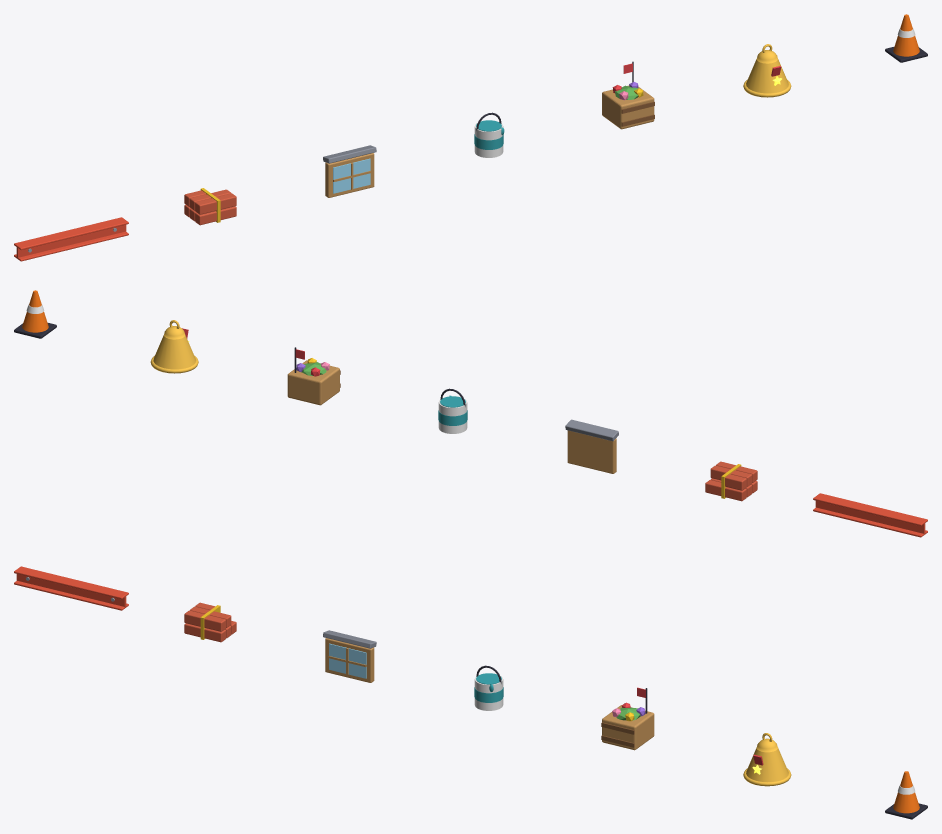
File: pieces.b26dc0a1.glb
3 views of the same model, one above another, from view 1: azimuth 30°, elevation 25°; view 2: azimuth 150°, elevation 25°; view 3: azimuth 330°, elevation 25° (orthographic).
Parts seen in each view (by area): view 1: Piece_beam__T_beam, Piece_bell__T_gold, Piece_brick__T_brick, Piece_decor__T_wood, Piece_panel__T_wood, Piece_panel__T_glass, Piece_cone__T_orange, Piece_paint__T_teal, Piece_paint__T_white; view 2: Piece_beam__T_beam, Piece_panel__T_wood, Piece_bell__T_gold, Piece_decor__T_wood, Piece_brick__T_brick, Piece_panel__T_roofgray, Piece_cone__T_orange, Piece_paint__T_teal, Piece_paint__T_white; view 3: Piece_beam__T_beam, Piece_bell__T_gold, Piece_brick__T_brick, Piece_decor__T_wood, Piece_panel__T_wood, Piece_panel__T_glass, Piece_cone__T_orange, Piece_paint__T_teal, Piece_paint__T_white.
Boxes of the visible parts, <box> form: Piece_beam__T_beam: <box>14,217,128,261</box>; Piece_bell__T_gold: <box>743,44,791,97</box>; Piece_brick__T_brick: <box>184,189,236,225</box>; Piece_decor__T_wood: <box>602,85,654,129</box>; Piece_panel__T_wood: <box>325,153,374,197</box>; Piece_panel__T_glass: <box>333,158,370,193</box>; Piece_cone__T_orange: <box>893,14,919,56</box>; Piece_paint__T_teal: <box>474,120,504,149</box>; Piece_paint__T_white: <box>474,120,503,157</box>; Piece_beam__T_beam: <box>813,493,927,537</box>; Piece_panel__T_wood: <box>567,430,616,473</box>; Piece_bell__T_gold: <box>150,320,198,373</box>; Piece_decor__T_wood: <box>287,360,339,405</box>; Piece_brick__T_brick: <box>705,461,757,501</box>; Piece_panel__T_roofgray: <box>565,419,618,441</box>; Piece_cone__T_orange: <box>22,290,48,332</box>; Piece_paint__T_teal: <box>438,395,467,425</box>; Piece_paint__T_white: <box>438,396,467,433</box>; Piece_beam__T_beam: <box>14,566,128,610</box>; Piece_bell__T_gold: <box>743,733,791,786</box>; Piece_brick__T_brick: <box>184,602,236,642</box>; Piece_decor__T_wood: <box>602,705,654,750</box>; Piece_panel__T_wood: <box>325,638,374,682</box>; Piece_panel__T_glass: <box>329,643,366,678</box>; Piece_cone__T_orange: <box>893,771,919,813</box>; Piece_paint__T_teal: <box>474,673,503,702</box>; Piece_paint__T_white: <box>474,673,503,710</box>.
Size of the model in its own units: 11.68 by 0.7 by 0.54.
